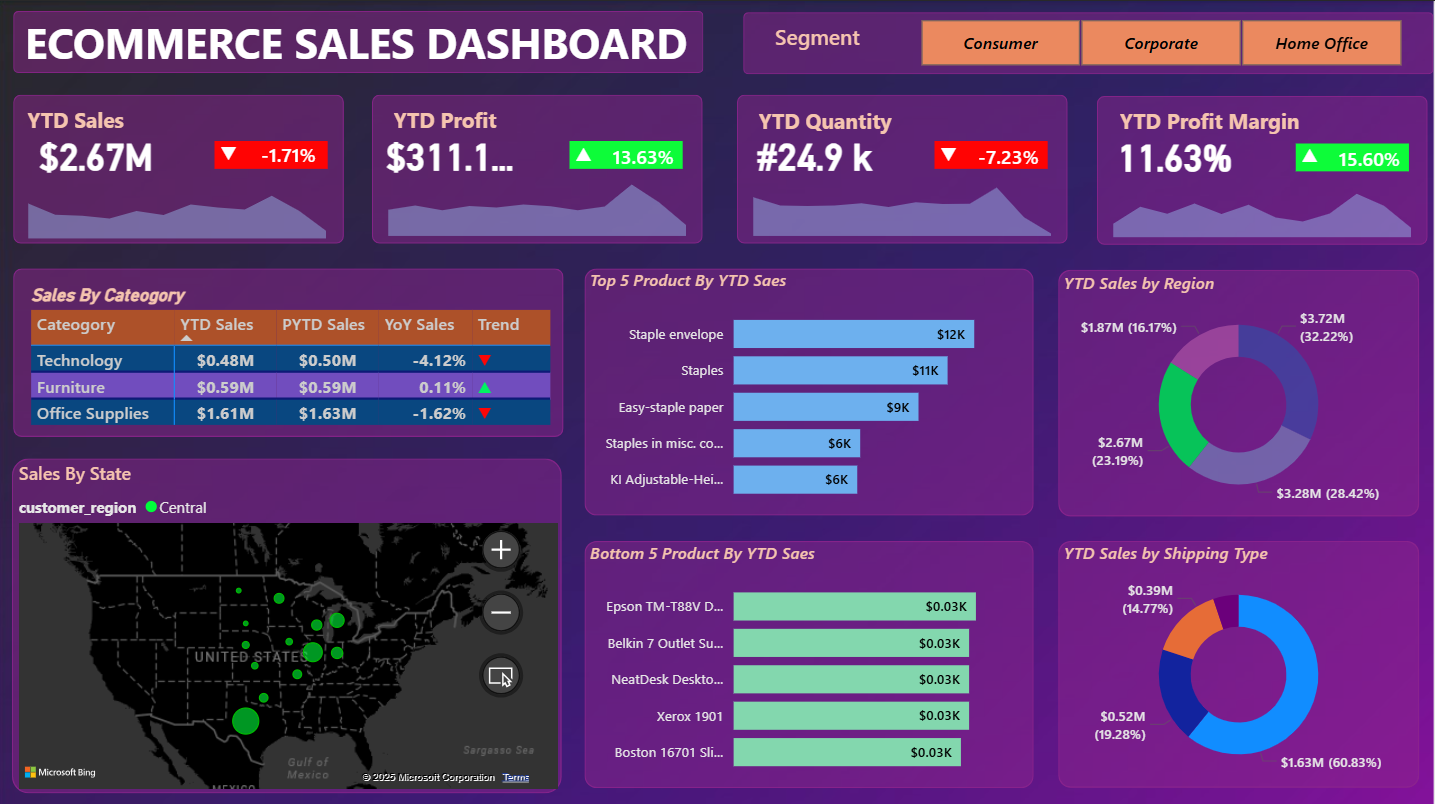

The dashboard page shown, as its layout file describes it:
{"tool":"powerbi","page":{"name":"Page 1","canvas":[1280,720],"ordinal":0},"visuals":[{"type":"shape","box":[14.7,8.6,614.7,55.2],"z":0},{"type":"textbox","box":[19.6,6.1,630.7,61.4],"z":1000},{"type":"shape","box":[14.7,83.4,294.5,132.5],"z":2000},{"type":"card","fields":{"Values":["ecommerce_data.YTD Sales"]},"box":[18.4,106.7,138.7,58.9],"z":3000},{"type":"areaChart","fields":{"Category":["Calendar.Month"],"Y":["Sum(ecommerce_data.sales_per_order)"]},"box":[13.5,149.7,294.5,67.5],"z":4000},{"type":"shape","box":[193.9,125.2,100.6,24.5],"z":5000},{"type":"card","fields":{"Values":["ecommerce_data.YoY Sales"]},"box":[224.5,125.2,69.9,28.2],"z":6000},{"type":"card","fields":{"Values":["ecommerce_data.Sales Icon"]},"box":[193.9,120.2,25.8,33.1],"z":7000},{"type":"textbox","box":[22.1,88.3,110.4,35.6],"z":8000},{"type":"shape","box":[333.5,83.4,294.5,132.5],"z":9000},{"type":"card","fields":{"Values":["ecommerce_data.YTD Profit"]},"box":[333.5,106.7,138.7,58.9],"z":10000},{"type":"areaChart","fields":{"Category":["Calendar.Month"],"Y":["Sum(ecommerce_data.profit_per_order)"]},"box":[333.5,147.2,294.5,67.5],"z":11000},{"type":"shape","box":[510.2,125.2,100.6,24.5],"z":12000},{"type":"card","fields":{"Values":["ecommerce_data.YoY Profit"]},"box":[540.9,126.4,69.9,28.2],"z":13000},{"type":"card","fields":{"Values":["ecommerce_data.Profit Icon"]},"box":[510.2,121.5,25.8,33.1],"z":14000},{"type":"textbox","box":[348.2,88.3,110.4,35.6],"z":15000},{"type":"shape","box":[658.7,83.4,294.5,132.5],"z":16000},{"type":"card","fields":{"Values":["ecommerce_data.YTD Qty logo"]},"box":[658.7,106.7,138.7,58.9],"z":17000},{"type":"areaChart","fields":{"Category":["Calendar.Month"],"Y":["Sum(ecommerce_data.order_quantity)"]},"box":[658.7,147.2,294.5,67.5],"z":18000},{"type":"shape","box":[835.4,125.2,100.6,24.5],"z":19000},{"type":"card","fields":{"Values":["ecommerce_data.YoY Qty"]},"box":[866,126.4,69.9,28.2],"z":20000},{"type":"card","fields":{"Values":["ecommerce_data.Quantity Icon"]},"box":[835.4,121.5,25.8,33.1],"z":21000},{"type":"textbox","box":[673.7,88.9,141.1,35.6],"z":22000},{"type":"shape","box":[980.1,84.7,294.5,132.5],"z":23000},{"type":"card","fields":{"Values":["ecommerce_data.YTD Profit Margin"]},"box":[980.1,108,138.7,58.9],"z":24000},{"type":"areaChart","fields":{"Category":["Calendar.Month"],"Y":["ecommerce_data.Profit Margin"]},"box":[980.1,148.5,294.5,67.5],"z":25000},{"type":"shape","box":[1156.8,126.4,100.6,24.5],"z":26000},{"type":"card","fields":{"Values":["ecommerce_data.YoY Profit Margin"]},"box":[1187.5,127.6,69.9,28.2],"z":27000},{"type":"card","fields":{"Values":["ecommerce_data.Profit Margin Icon"]},"box":[1156.8,122.7,25.8,33.1],"z":28000},{"type":"textbox","box":[995.1,89.6,192.6,35.6],"z":29000},{"type":"shape","box":[14.7,238,490,150],"z":30000},{"type":"pivotTable","title":"Sales By  Cateogory","fields":{"Rows":["ecommerce_data.category_name"],"Values":["ecommerce_data.YTD Sales","ecommerce_data.PYTD Sales","ecommerce_data.YoY Sales","ecommerce_data.Sales Icon"]},"box":[25.8,252.8,473.6,131.3],"z":31000},{"type":"shape","box":[13.5,407.4,489.6,298.2],"z":32000},{"type":"map","title":"Sales By State","fields":{"X":["us_state_long_lat_codes.longitude"],"Y":["us_state_long_lat_codes.latitude"],"Size":["ecommerce_data.YTD Sales"],"Series":["ecommerce_data.customer_region"]},"box":[14.7,408.6,489.6,298.2],"z":33000},{"type":"shape","box":[522.7,238,400,220],"z":34000},{"type":"shape","box":[522.7,481,400,220],"z":35000},{"type":"barChart","title":"Top 5 Product By YTD Saes","fields":{"Category":["ecommerce_data.product_name"],"Y":["ecommerce_data.YTD Sales"]},"box":[522.7,238,400,219.6],"z":36000},{"type":"barChart","title":"Bottom 5 Product By YTD Saes","fields":{"Category":["ecommerce_data.product_name"],"Y":["ecommerce_data.YTD Sales"]},"box":[522.7,481,400,219.6],"z":37000},{"type":"shape","box":[944.8,239.3,321.5,219.6],"z":37001},{"type":"shape","box":[944.8,481,321.5,219.6],"z":37002},{"type":"donutChart","title":"YTD Sales by Region","fields":{"Y":["ecommerce_data.YTD Sales"],"Category":["ecommerce_data.customer_region"]},"box":[944.8,240.5,321.5,218.4],"z":37003},{"type":"donutChart","title":"YTD Sales by Shipping Type","fields":{"Y":["ecommerce_data.YTD Sales"],"Category":["ecommerce_data.shipping_type"]},"box":[944.8,481,321.5,218.4],"z":37004},{"type":"shape","box":[665,9.8,614.7,55.2],"z":37005},{"type":"slicer","fields":{"Values":["ecommerce_data.customer_segment"]},"box":[797.6,9.8,477.3,54],"z":37006},{"type":"textbox","box":[688.3,14.7,114.1,45.4],"z":37007}]}

Visuals, with their boxes in screenshot pixels (x1, y1, x2, y2), scaled from the page's 1280x720 canvas onto the 1435x804 screenshot:
shape: box(16, 10, 706, 71)
textbox: box(22, 7, 729, 75)
shape: box(16, 93, 347, 241)
card - ecommerce_data.YTD Sales: box(21, 119, 176, 185)
areaChart - Calendar.Month x Sum(ecommerce_data.sales_per_order): box(15, 167, 345, 243)
shape: box(217, 140, 330, 167)
card - ecommerce_data.YoY Sales: box(252, 140, 330, 171)
card - ecommerce_data.Sales Icon: box(217, 134, 246, 171)
textbox: box(25, 99, 149, 138)
shape: box(374, 93, 704, 241)
card - ecommerce_data.YTD Profit: box(374, 119, 529, 185)
areaChart - Calendar.Month x Sum(ecommerce_data.profit_per_order): box(374, 164, 704, 240)
shape: box(572, 140, 685, 167)
card - ecommerce_data.YoY Profit: box(606, 141, 685, 173)
card - ecommerce_data.Profit Icon: box(572, 136, 601, 173)
textbox: box(390, 99, 514, 138)
shape: box(738, 93, 1069, 241)
card - ecommerce_data.YTD Qty logo: box(738, 119, 894, 185)
areaChart - Calendar.Month x Sum(ecommerce_data.order_quantity): box(738, 164, 1069, 240)
shape: box(937, 140, 1049, 167)
card - ecommerce_data.YoY Qty: box(971, 141, 1049, 173)
card - ecommerce_data.Quantity Icon: box(937, 136, 965, 173)
textbox: box(755, 99, 913, 139)
shape: box(1099, 95, 1429, 243)
card - ecommerce_data.YTD Profit Margin: box(1099, 121, 1254, 186)
areaChart - Calendar.Month x ecommerce_data.Profit Margin: box(1099, 166, 1429, 241)
shape: box(1297, 141, 1410, 169)
card - ecommerce_data.YoY Profit Margin: box(1331, 142, 1410, 174)
card - ecommerce_data.Profit Margin Icon: box(1297, 137, 1326, 174)
textbox: box(1116, 100, 1332, 140)
shape: box(16, 266, 566, 433)
"Sales By  Cateogory" pivotTable: box(29, 282, 560, 429)
shape: box(15, 455, 564, 788)
"Sales By State" map: box(16, 456, 565, 789)
shape: box(586, 266, 1034, 511)
shape: box(586, 537, 1034, 783)
"Top 5 Product By YTD Saes" barChart: box(586, 266, 1034, 511)
"Bottom 5 Product By YTD Saes" barChart: box(586, 537, 1034, 782)
shape: box(1059, 267, 1420, 512)
shape: box(1059, 537, 1420, 782)
"YTD Sales by Region" donutChart: box(1059, 269, 1420, 512)
"YTD Sales by Shipping Type" donutChart: box(1059, 537, 1420, 781)
shape: box(746, 11, 1434, 73)
slicer - ecommerce_data.customer_segment: box(894, 11, 1429, 71)
textbox: box(772, 16, 900, 67)
